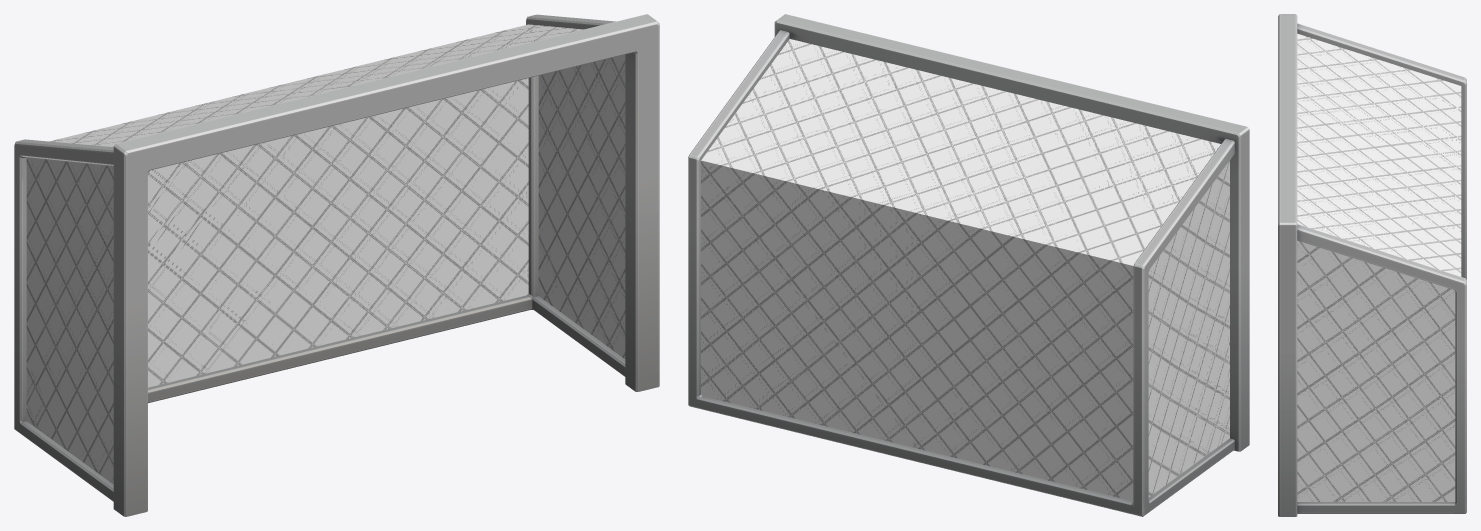
File: football_gates_1.fbx
3 renders of one model, left to right at view 1: azimuth 30°, elevation 25°; view 2: azimuth 150°, elevation 25°; view 3: azimuth 270°, elevation 25°, orthographic. The views are drawn at different scales.
Parts seen in each view (by area): view 1: goal_net, football_gates_1; view 2: goal_net, football_gates_1; view 3: goal_net, football_gates_1.
Part boxes in pixels (x1,y1,x2,y2): goal_net: (26, 24, 625, 484); football_gates_1: (14, 14, 659, 516); goal_net: (701, 39, 1229, 500); football_gates_1: (688, 14, 1249, 516); goal_net: (1297, 33, 1461, 501); football_gates_1: (1278, 14, 1466, 516).
Size of the model in its own units: 327 by 213 by 124.
